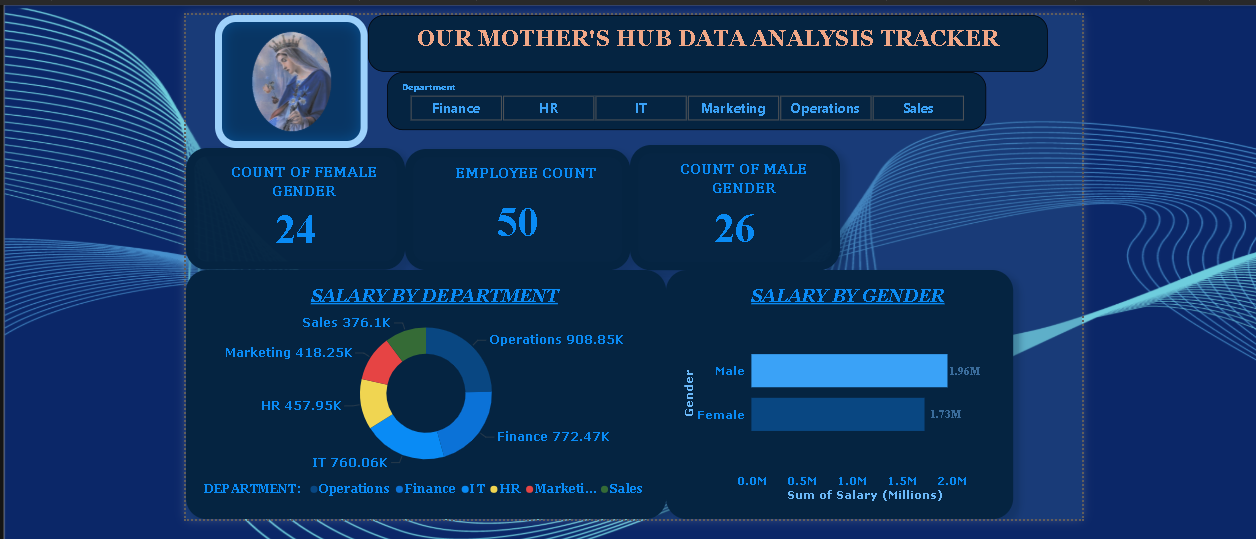

The dashboard page shown, as its layout file describes it:
{"tool":"powerbi","page":{"name":"Page REPORT","canvas":[1280,720],"ordinal":0},"visuals":[{"type":"card","title":"EMPLOYEE COUNT","fields":{"Values":["HR_Employee_Data.Measure 2"]},"box":[312.9,190,321.4,174.3],"z":0},{"type":"card","title":" COUNT OF MALE GENDER","fields":{"Values":["Count(HR_Employee_Data)"]},"box":[634.3,185.7,300,178.6],"z":1000},{"type":"card","title":" COUNT OF FEMALE GENDER","fields":{"Values":["Count(HR_Employee_Data)"]},"box":[0,190,312.9,174.3],"z":2000},{"type":"textbox","box":[260,0,971.4,81.4],"z":3000},{"type":"image","box":[41.7,0,218.3,190],"z":4000},{"type":"donutChart","title":"SALARY BY DEPARTMENT","fields":{"Y":["Sum(HR_Employee_Data.Salary)"],"Category":["HR_Employee_Data.Department"]},"box":[0,364.3,685.7,355.7],"z":5000},{"type":"clusteredBarChart","title":"SALARY BY GENDER","fields":{"Y":["Sum(HR_Employee_Data.Salary)"],"Category":["HR_Employee_Data.Gender"]},"box":[685.7,364.3,495.7,355.7],"z":6000},{"type":"slicer","fields":{"Values":["HR_Employee_Data.Department"]},"box":[287.1,81.4,855.7,82.9],"z":7000}]}

Visuals, with their boxes on the page's 1280x720 design canvas (x1, y1, x2, y2). These are canvas units, not pixel positions in the 1256x539 screenshot, which may show the page scaled, cropped or inside an application window:
"EMPLOYEE COUNT" card: bbox(313, 190, 634, 364)
" COUNT OF MALE GENDER" card: bbox(634, 186, 934, 364)
" COUNT OF FEMALE GENDER" card: bbox(0, 190, 313, 364)
textbox: bbox(260, 0, 1231, 81)
image: bbox(42, 0, 260, 190)
"SALARY BY DEPARTMENT" donutChart: bbox(0, 364, 686, 720)
"SALARY BY GENDER" clusteredBarChart: bbox(686, 364, 1181, 720)
slicer - HR_Employee_Data.Department: bbox(287, 81, 1143, 164)
